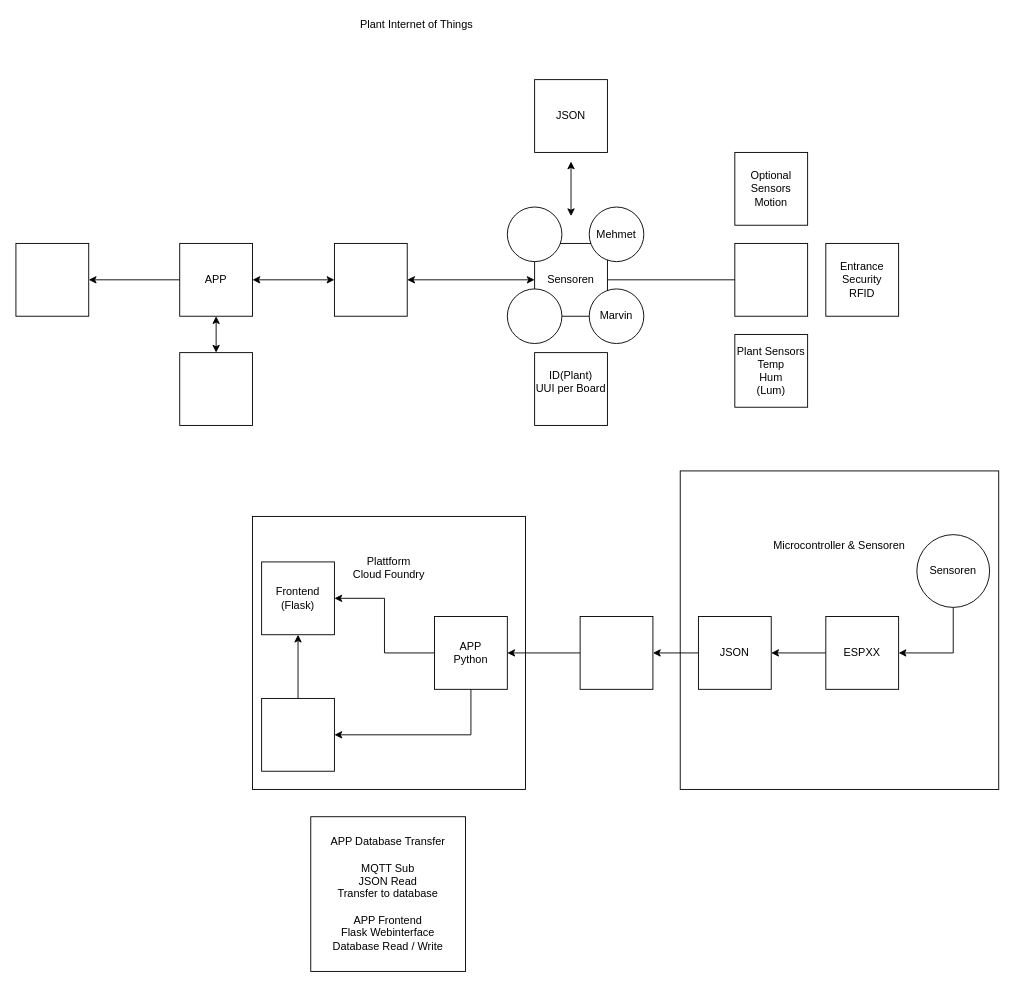
This 1015x987 diagram has some shape labels left out. The centre of each missing label's shape, as x and y in pixels:
Database (MySQL): (x=297, y=734)
Datenbank: (x=216, y=388)
ESP32: (x=771, y=279)
Frotend: (x=52, y=279)
Kai: (x=534, y=316)
MQTT: (x=370, y=279)
MQTT BROKER: (x=616, y=652)
Steffen: (x=534, y=234)
